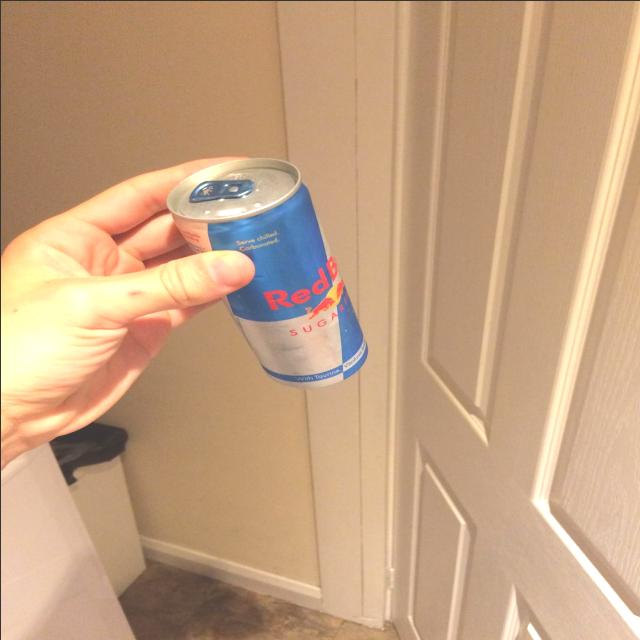Drink can: (166, 157, 367, 388)
Pop tab: (188, 179, 254, 201)
